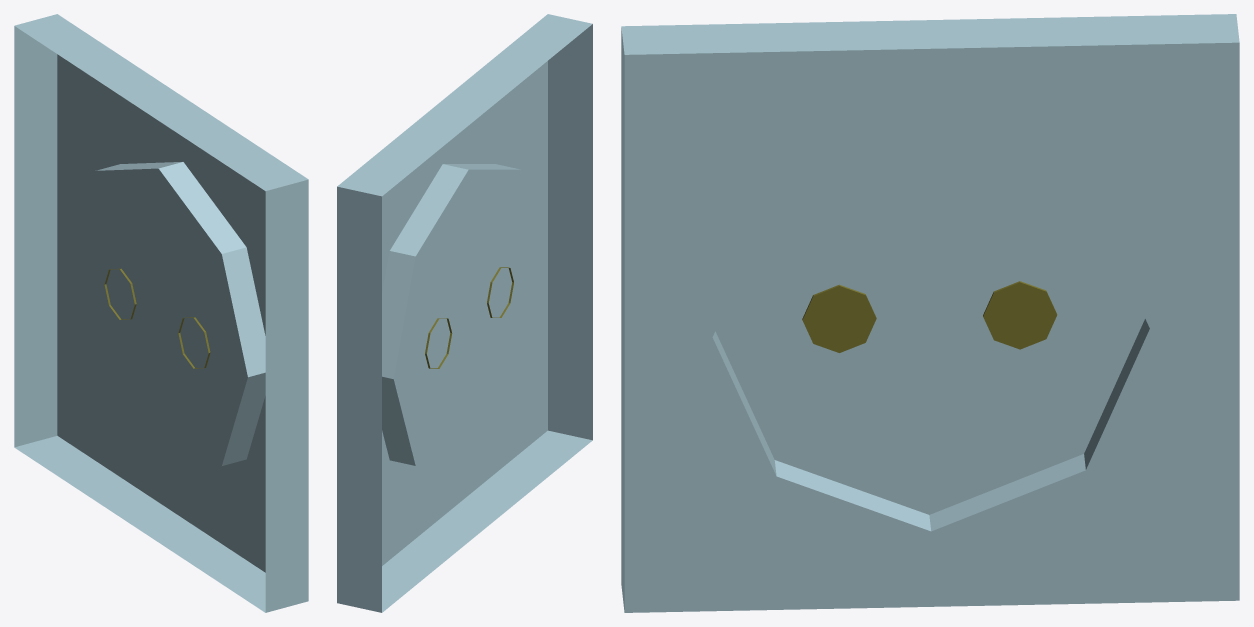
File: Kitchen_Socket.fbx
3 views of the same model, side by side, from view 1: azimuth 30°, elevation 25°; view 2: azimuth 150°, elevation 25°; view 3: azimuth 270°, elevation 25° (orthographic). The views are drawn at different scales.
Parts seen in each view (by area): view 1: Kitchen_Socket; view 2: Kitchen_Socket; view 3: Kitchen_Socket.
Boxes of the visible parts, box(x1,y1,x2,y2) form: Kitchen_Socket: box(14, 14, 308, 612); Kitchen_Socket: box(337, 14, 592, 612); Kitchen_Socket: box(621, 14, 1239, 612).
Bounding box in the file's own units: 2.13 × 13.53 × 13.59.
